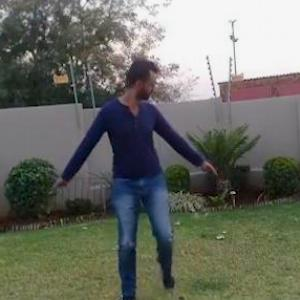land: (33, 54, 222, 299)
